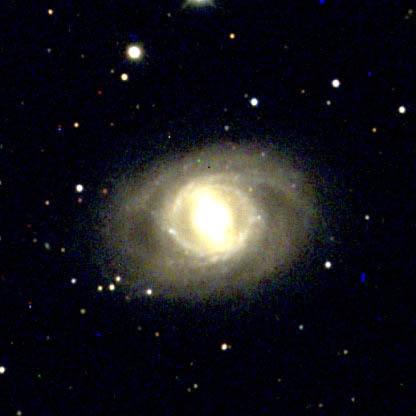Messier 95: (87, 133, 330, 307)
